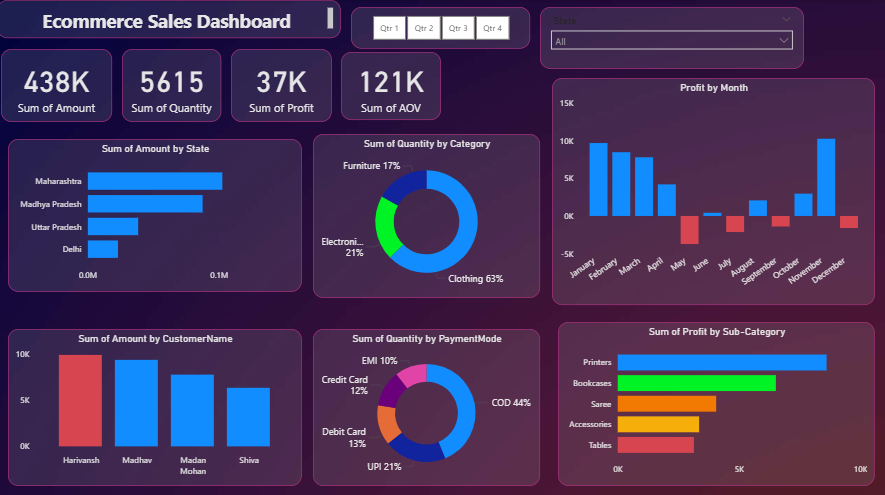

What the dashboard file says about the page in this screenshot:
{"tool":"powerbi","page":{"name":"Page 1","canvas":[1280,720],"ordinal":0},"visuals":[{"type":"textbox","box":[0,0,495.4,54.7],"z":0},{"type":"columnChart","title":" Profit by Month","fields":{"Y":["Details.Profit"],"Category":["Orders.Order Date.Variation.Date Hierarchy.Month"]},"box":[799.2,112.3,465.1,326.9],"z":1000},{"type":"barChart","fields":{"Y":["Details.Profit"],"Category":["Details.Sub-Category"]},"box":[807.8,463.7,456.5,236.2],"z":2000},{"type":"donutChart","fields":{"Category":["Details.Category"],"Y":["Details.Quantity"]},"box":[455,193,326.9,236.2],"z":3000},{"type":"donutChart","fields":{"Y":["Details.Quantity"],"Category":["Details.PaymentMode"]},"box":[455,473.8,326.9,226.1],"z":4000},{"type":"card","fields":{"Values":["Details.Amount"]},"box":[5.8,70.6,159.8,105.1],"z":5000},{"type":"card","fields":{"Values":["Details.Quantity"]},"box":[180,70.6,142.6,105.1],"z":6000},{"type":"card","fields":{"Values":["Details.Profit"]},"box":[337,70.6,145.4,105.1],"z":7000},{"type":"card","fields":{"Values":["Details.AOV"]},"box":[495.4,74.9,144,97.9],"z":8000},{"type":"barChart","fields":{"Y":["Details.Amount"],"Category":["Orders.State"]},"box":[15.8,200.2,423.4,220.3],"z":9000},{"type":"columnChart","fields":{"Category":["Orders.CustomerName"],"Y":["Details.Amount"]},"box":[16,474,423,226],"z":10000},{"type":"slicer","fields":{"Values":["Orders.Order Date.Variation.Date Hierarchy.Quarter"]},"box":[509.8,10.1,257.8,60.5],"z":11000},{"type":"slicer","fields":{"Values":["Orders.State"]},"box":[781.9,10.1,380.2,89.3],"z":12000}]}

Visuals, with their boxes in screenshot pixels (x1, y1, x2, y2), scaled from the page's 1280x720 canvas onto the 885x495 screenshot:
textbox: Rect(0, 0, 343, 38)
" Profit by Month" columnChart: Rect(553, 77, 874, 302)
barChart - Details.Profit x Details.Sub-Category: Rect(559, 319, 874, 481)
donutChart - Details.Category x Details.Quantity: Rect(315, 133, 541, 295)
donutChart - Details.Quantity x Details.PaymentMode: Rect(315, 326, 541, 481)
card - Details.Amount: Rect(4, 49, 114, 121)
card - Details.Quantity: Rect(124, 49, 223, 121)
card - Details.Profit: Rect(233, 49, 334, 121)
card - Details.AOV: Rect(343, 51, 442, 119)
barChart - Details.Amount x Orders.State: Rect(11, 138, 304, 289)
columnChart - Orders.CustomerName x Details.Amount: Rect(11, 326, 304, 481)
slicer - Orders.Order Date.Variation.Date Hierarchy.Quarter: Rect(352, 7, 531, 49)
slicer - Orders.State: Rect(541, 7, 803, 68)
